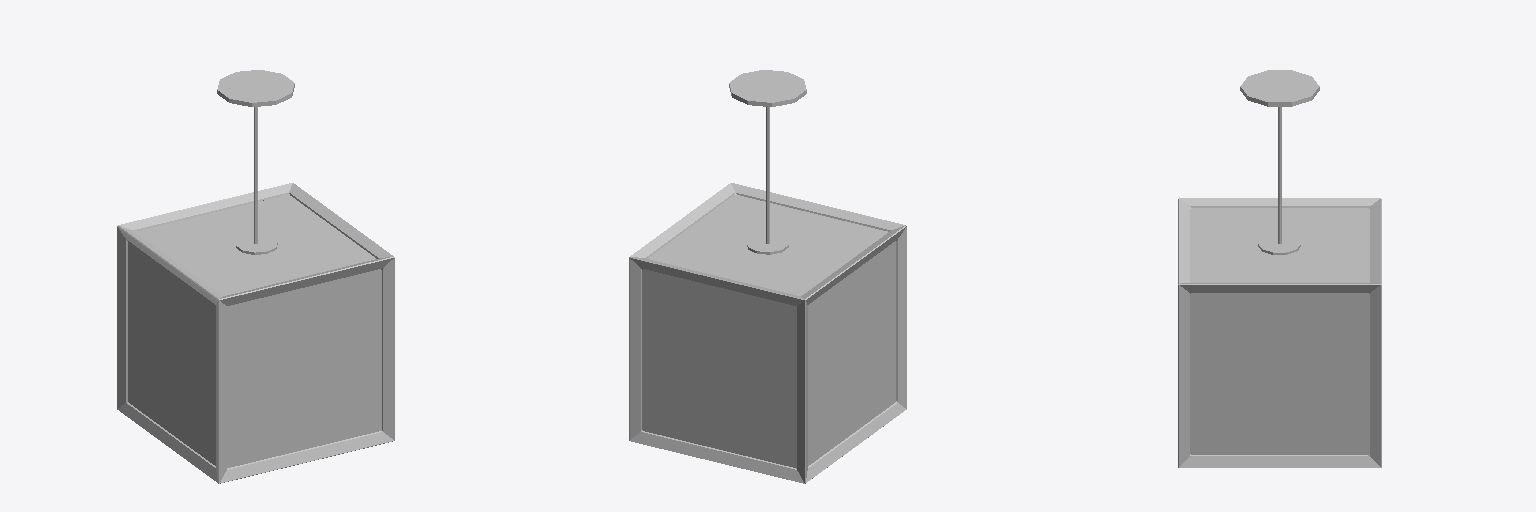
Rendered from Light_Cube.obj.
3 renders of one model, left to right at view 1: azimuth 30°, elevation 25°; view 2: azimuth 150°, elevation 25°; view 3: azimuth 270°, elevation 25°, orthographic.
Parts seen in each view (by area): view 1: Light_Cube; view 2: Light_Cube; view 3: Light_Cube.
Part boxes in pixels (bbox=[...]): Light_Cube: bbox=[117, 70, 394, 483]; Light_Cube: bbox=[629, 70, 906, 483]; Light_Cube: bbox=[1178, 70, 1381, 467].
Bounding box in the file's own units: 0.5638 × 1.04 × 0.5638.